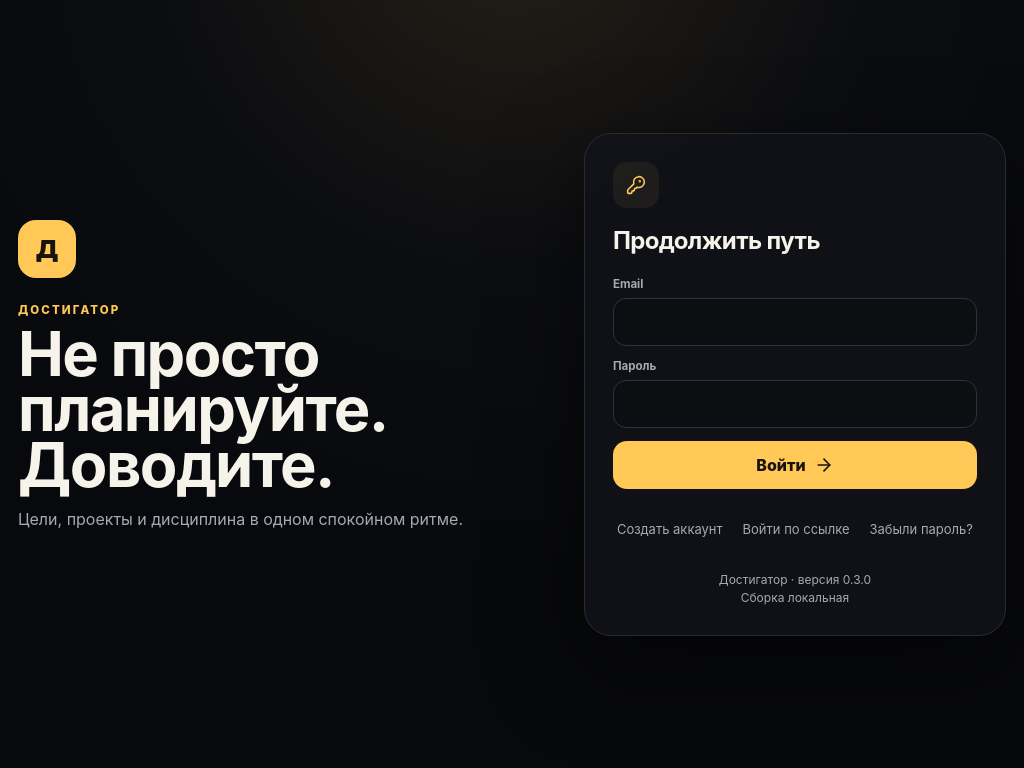
LoginPage open registration › exposes signup and keeps exactly one Russian alert with entered values on error
Click the button "Создать аккаунт" at (670, 528), box [613,506,727,550]
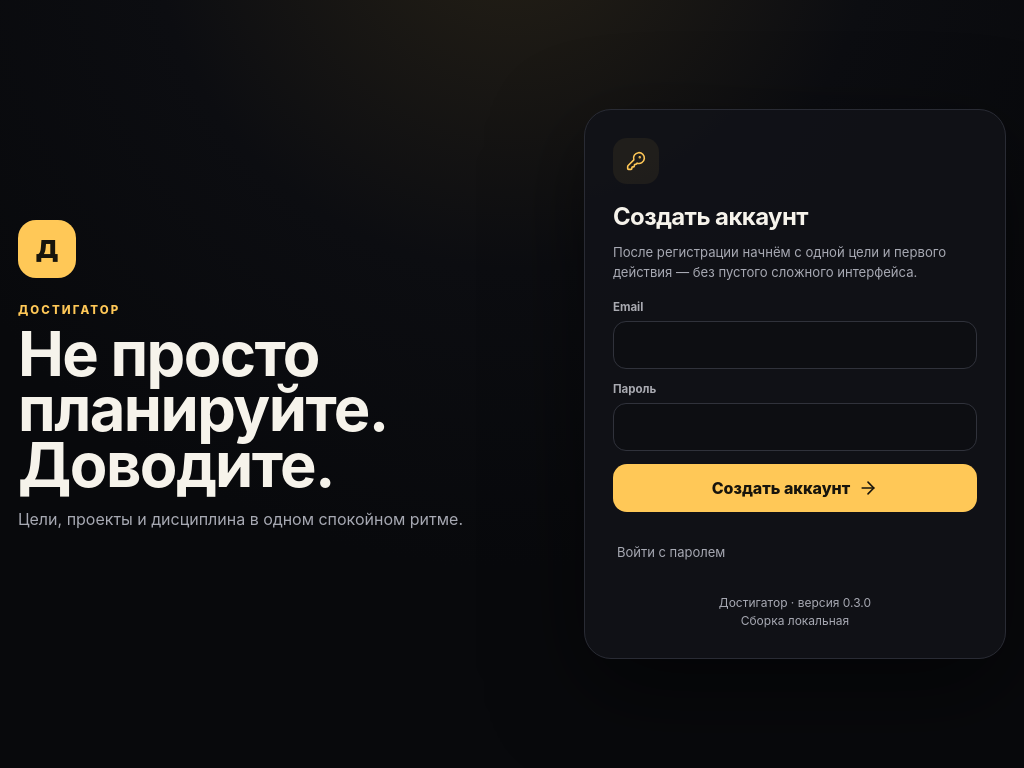
Type "used@example.com" into the field labelled "Email" at (795, 345), box [613,321,977,369]
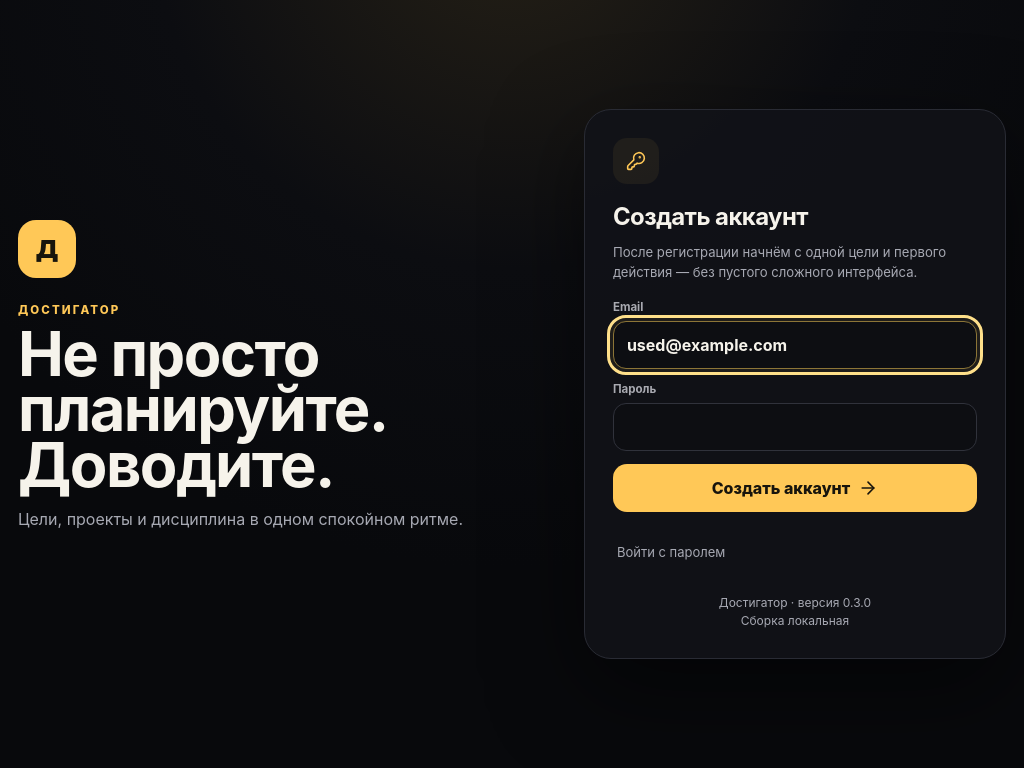
Type "strong-password" into the password field labelled "Пароль" at (795, 427), box [613,403,977,451]
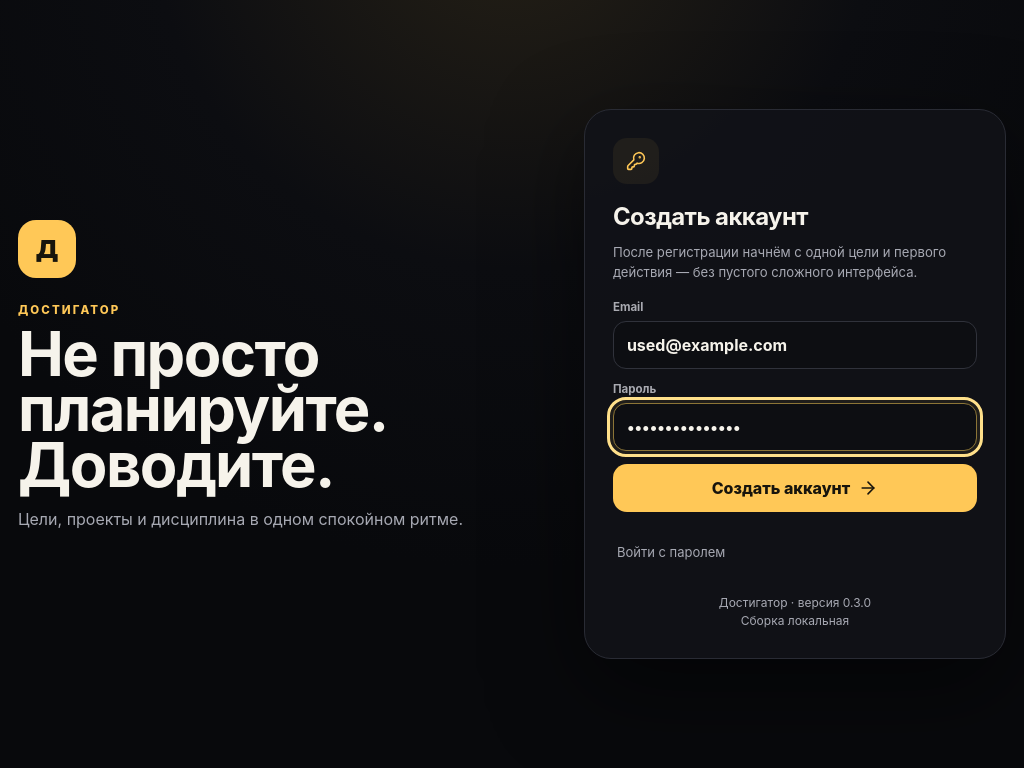
Click the button "Создать аккаунт" at (795, 488), box [613,464,977,512]
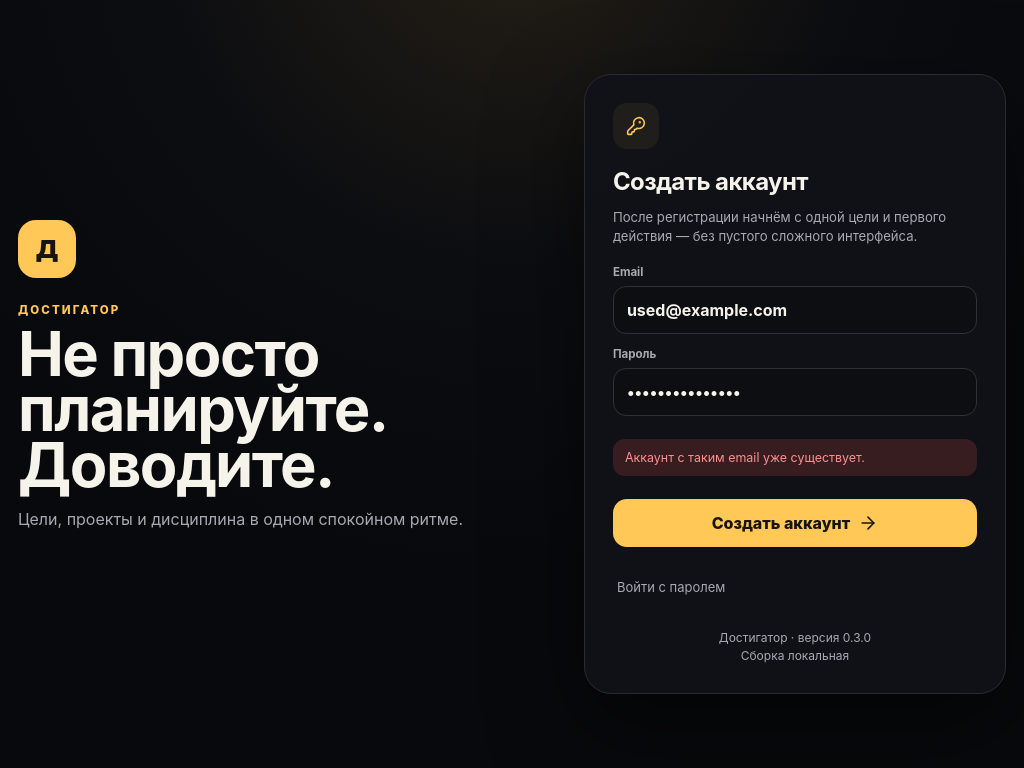
Check: the message shows "Аккаунт с таким email уже существует", box [625,450,865,465]
Check: the number of messages is 1, box [613,439,977,476]
